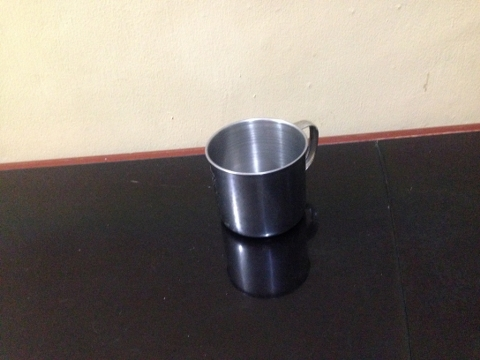tempat minum: (205, 120, 319, 238)
